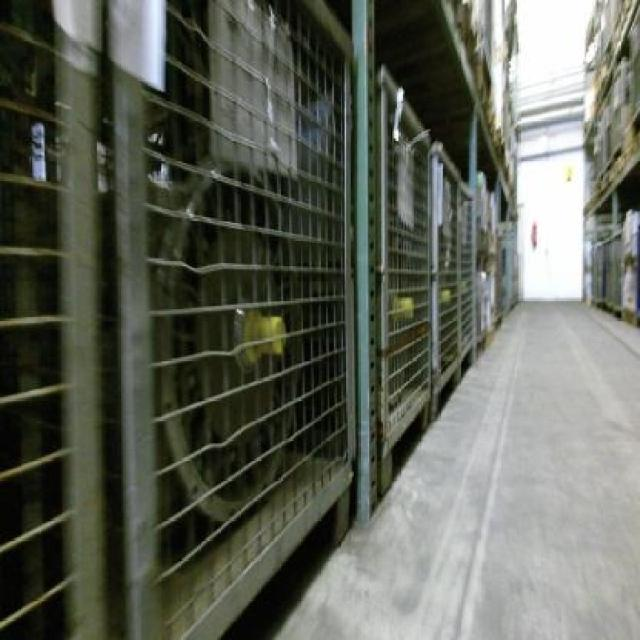pallets: (583, 0, 637, 322), (611, 563, 637, 637)
